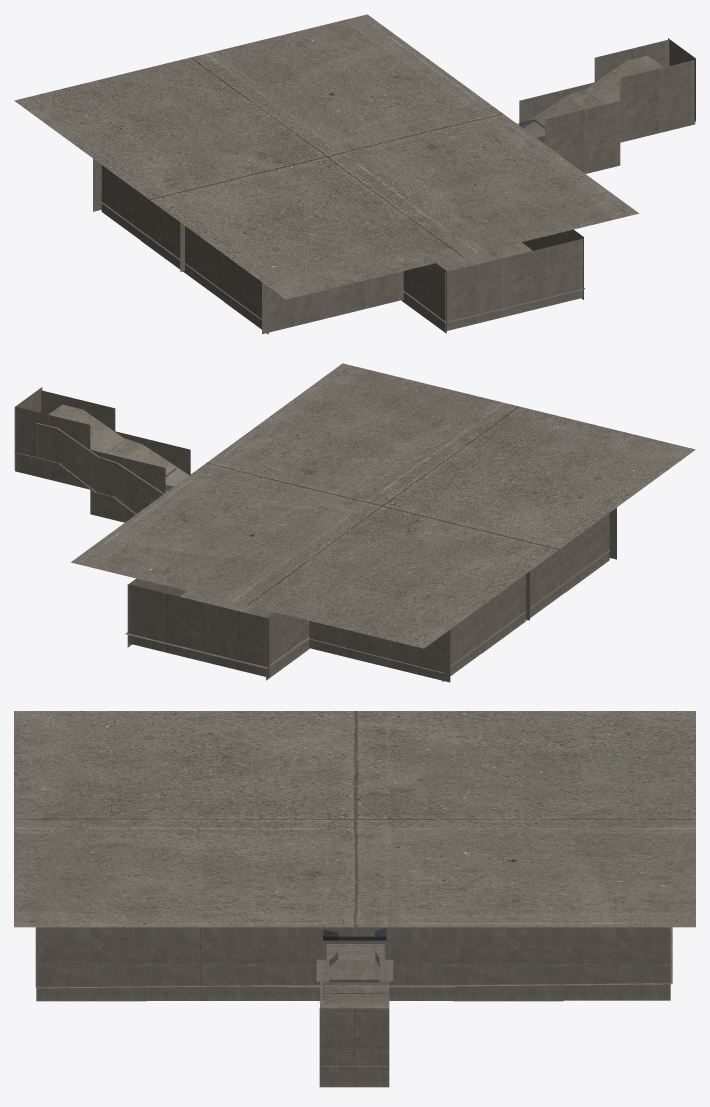
File: 3drop_gallery_v135.glb
3 renders of one model, top to bottom at view 1: azimuth 30°, elevation 25°; view 2: azimuth 150°, elevation 25°; view 3: azimuth 270°, elevation 25°, orthographic. The views are drawn at different scales.
Parts seen in each view (by area): view 1: frameConcreteExternalTop, demoZoneSurroundingPlanes, entranceBackCeiling, sideLeftPlateformConcrete_grndPhys; view 2: frameConcreteExternalTop, demoZoneSurroundingPlanes, entranceBackCeiling, sideRightPlateformConcrete_grndPhys; view 3: frameConcreteExternalTop, demoZoneSurroundingPlanes, entranceBackCeiling, entranceLobbyConcrete, frameConcreteExternal.
Part boxes in pixels (x1=…): frameConcreteExternalTop: x1=14, y1=14, x2=638, y2=299; demoZoneSurroundingPlanes: x1=93, y1=38, x2=695, y2=334; entranceBackCeiling: x1=521, y1=55, x2=663, y2=143; sideLeftPlateformConcrete_grndPhys: x1=403, y1=242, x2=585, y2=323; frameConcreteExternalTop: x1=71, y1=363, x2=695, y2=648; demoZoneSurroundingPlanes: x1=14, y1=387, x2=616, y2=682; entranceBackCeiling: x1=36, y1=404, x2=189, y2=494; sideRightPlateformConcrete_grndPhys: x1=125, y1=591, x2=309, y2=668; frameConcreteExternalTop: x1=14, y1=711, x2=695, y2=927; demoZoneSurroundingPlanes: x1=36, y1=927, x2=670, y2=1087; entranceBackCeiling: x1=316, y1=959, x2=393, y2=1008; entranceLobbyConcrete: x1=323, y1=940, x2=386, y2=1000; frameConcreteExternal: x1=323, y1=927, x2=386, y2=936.
Size of what is drawn, in the model's own units: 283 by 54 by 250.
Materials: 5 (4 with a texture image).
